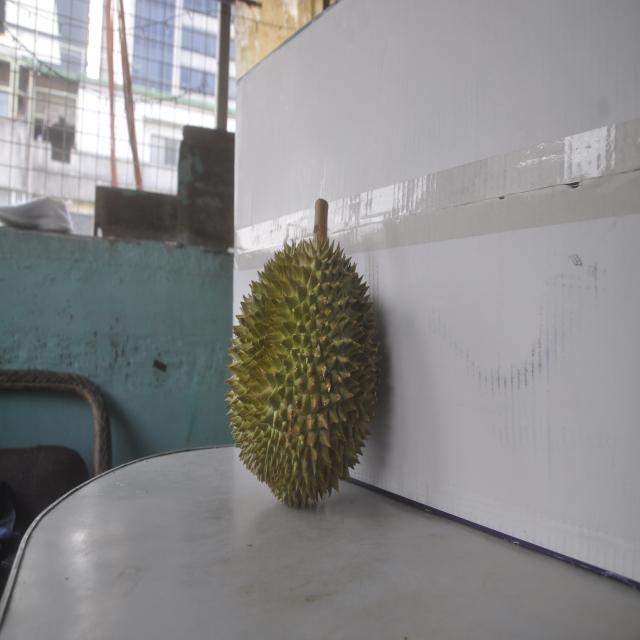mature: (224, 223, 385, 509)
